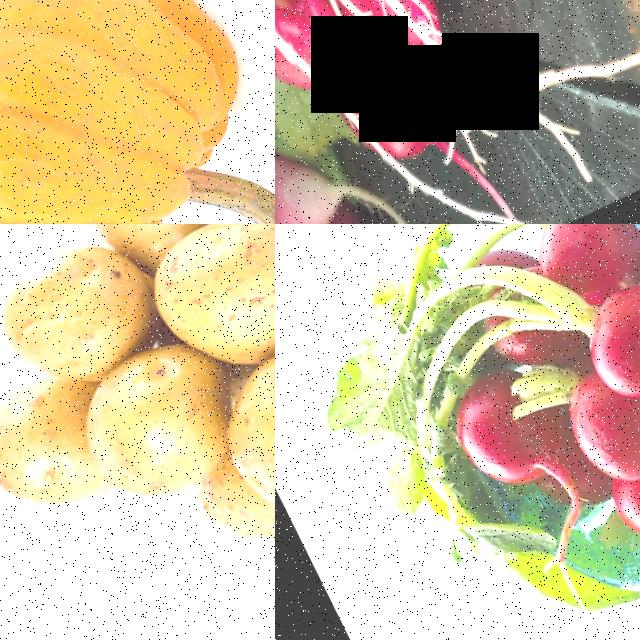potato: (51, 335, 238, 524), (0, 224, 168, 395), (122, 224, 275, 375), (188, 309, 275, 540), (0, 367, 111, 541)
pumpkin: (0, 0, 275, 224)
radishes: (324, 224, 640, 633), (275, 0, 532, 224)
